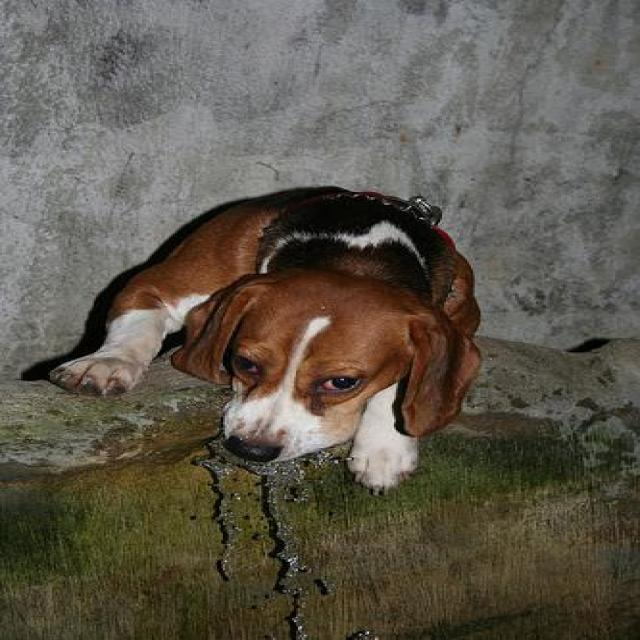beagle: (42, 188, 492, 494)
